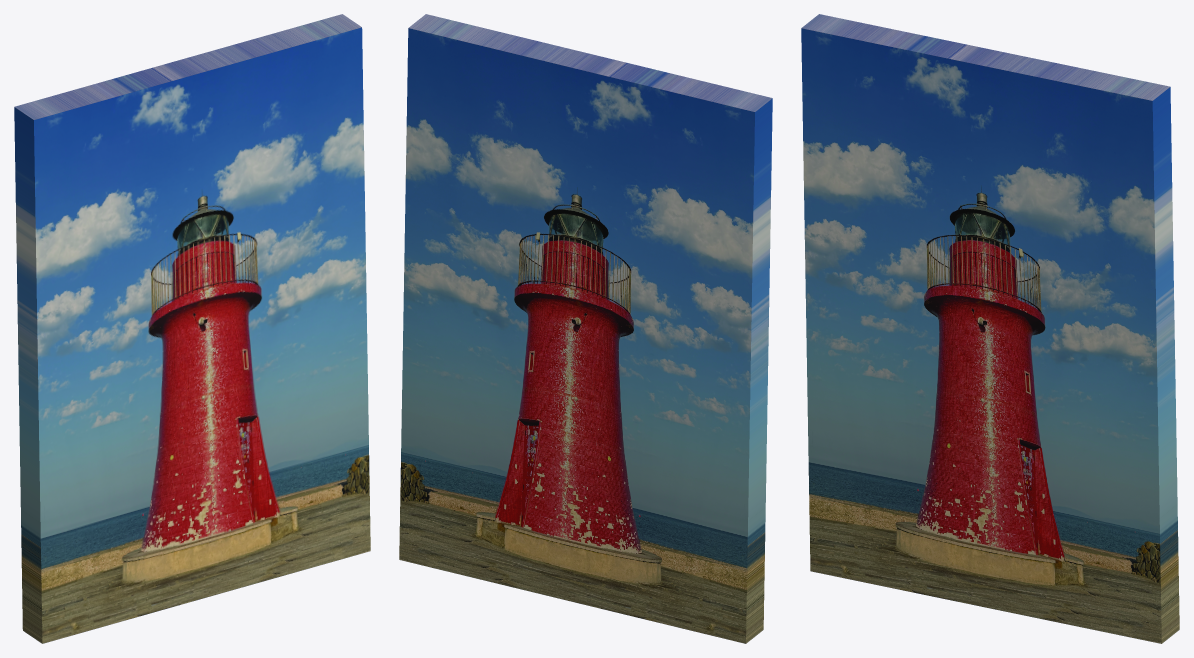
Rendered from 3quadro-verticale-40x60.glb.
3 renders of one model, left to right at view 1: azimuth 30°, elevation 25°; view 2: azimuth 150°, elevation 25°; view 3: azimuth 330°, elevation 25°, orthographic. The views are drawn at different scales.
Parts seen in each view (by area): view 1: Plane; view 2: Plane; view 3: Plane.
Part boxes in pixels (left/top/right/bottom): Plane: left=14, top=14, right=370, bottom=643; Plane: left=399, top=14, right=772, bottom=643; Plane: left=801, top=14, right=1179, bottom=643.
Size of the model in its own units: 0.823 by 1.21 by 0.1052.
Materials: 1 (1 with a texture image).
